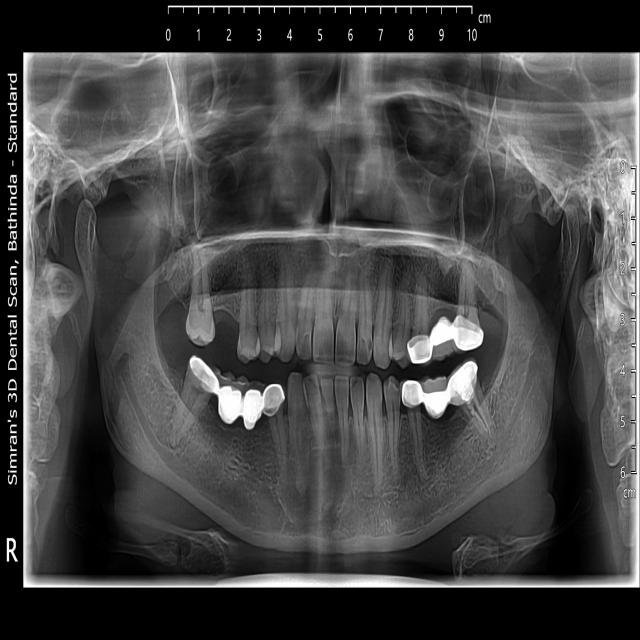Caries: (366, 336, 372, 360)
Crown: (189, 352, 285, 435), (404, 359, 478, 424), (408, 313, 483, 368)
Mandibular Canal: (422, 320, 548, 520), (119, 360, 184, 477)
Missing teeth: (210, 310, 242, 354)
Periapical lesion: (276, 445, 344, 529)
Root Canal Treatment: (475, 390, 491, 437), (467, 401, 488, 434)
